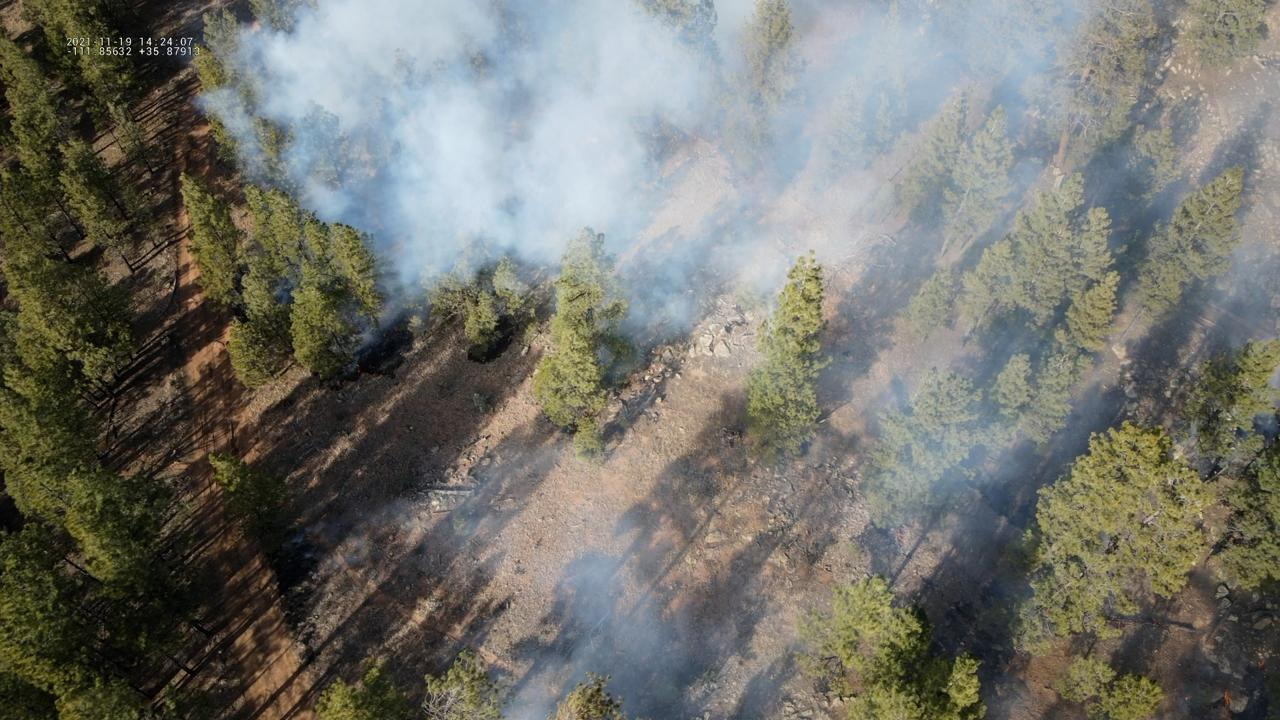fire: (1222, 689, 1233, 711), (1257, 658, 1268, 672), (1183, 695, 1189, 703)
smoke: (185, 0, 1280, 475), (497, 545, 776, 720), (289, 493, 439, 551)
